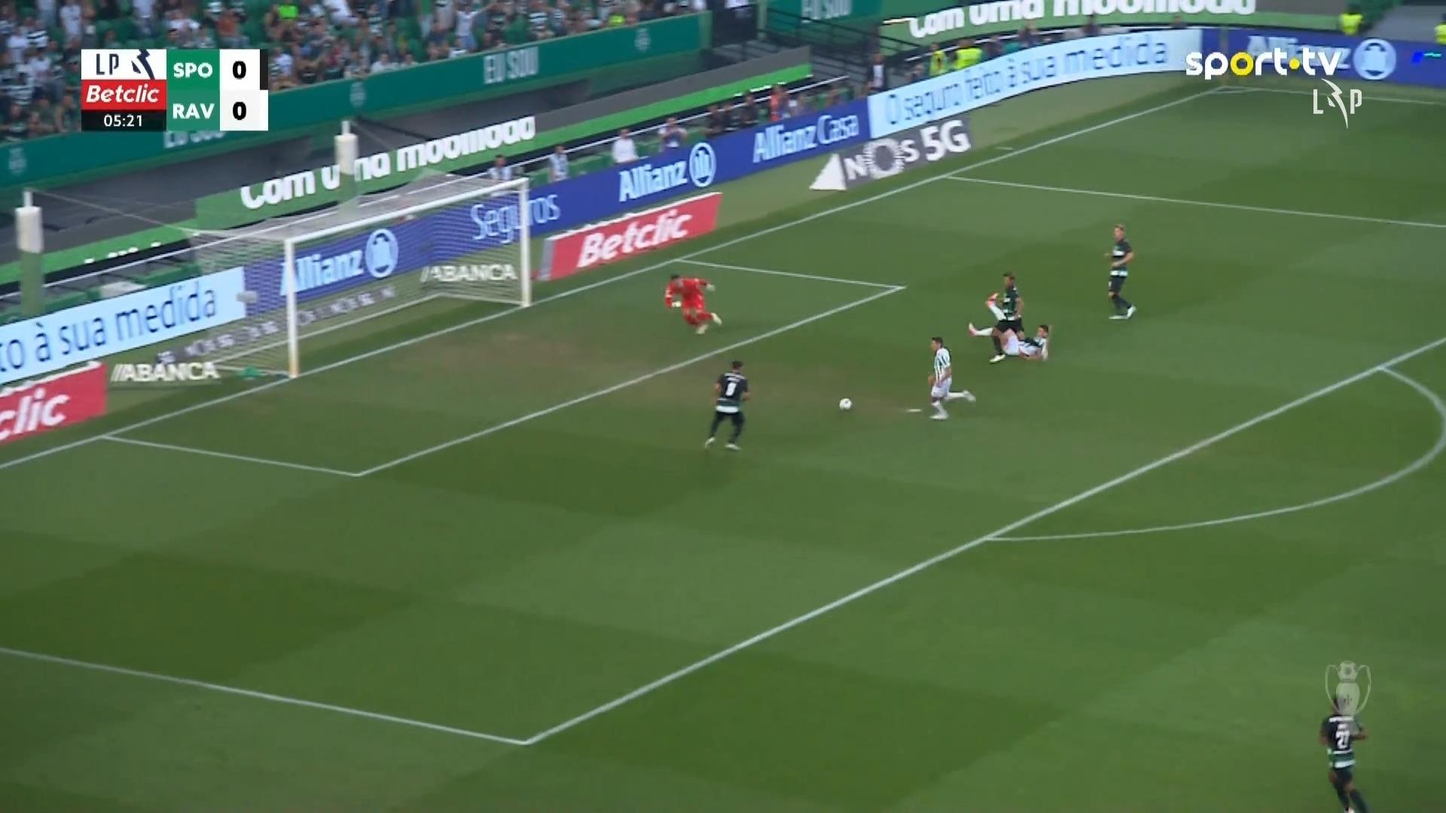ball: (838, 397, 852, 410)
goalkeeper: (664, 273, 722, 335)
player: (1317, 694, 1369, 811), (967, 270, 1025, 363), (703, 358, 751, 451), (926, 336, 975, 420), (1103, 223, 1136, 320), (990, 322, 1051, 361)
